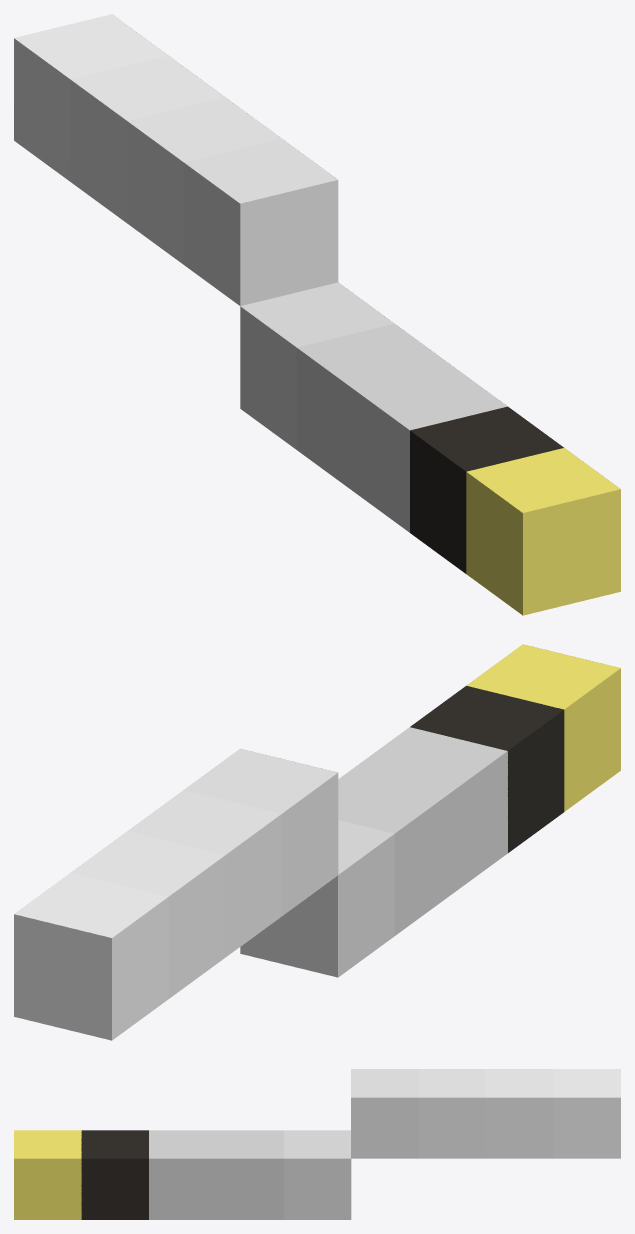
Rendered from Samurai Weapon.obj.
The picture shows the model from 3 angles, top to bottom: view 1: azimuth 30°, elevation 25°; view 2: azimuth 150°, elevation 25°; view 3: azimuth 270°, elevation 25°; orthographic projection. The views are drawn at different scales.
Parts seen in each view (by area): view 1: Samurai Weapon; view 2: Samurai Weapon; view 3: Samurai Weapon.
Part boxes in pixels (x1=…): Samurai Weapon: x1=14, y1=14, x2=620, y2=615; Samurai Weapon: x1=14, y1=644, x2=620, y2=1040; Samurai Weapon: x1=14, y1=1069, x2=620, y2=1219.
Bounding box in the file's own units: 1 × 2 × 9.
1 material, 1 textured.
